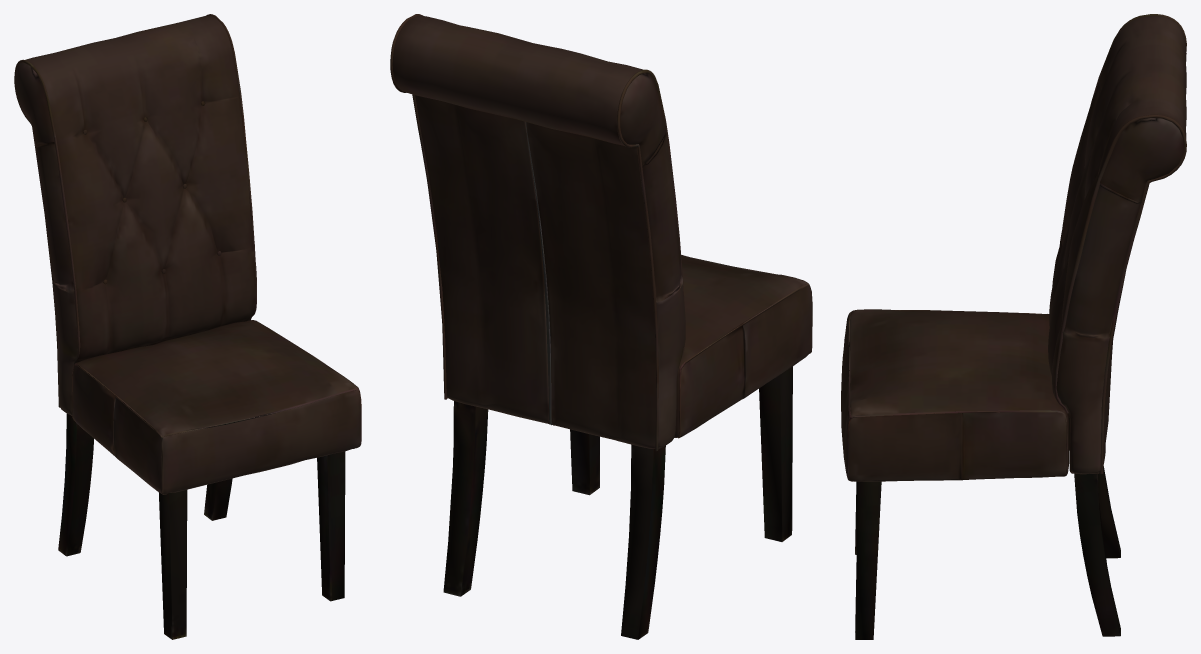
Rendered from dining_chair_02.glb.
3 renders of one model, left to right at view 1: azimuth 30°, elevation 25°; view 2: azimuth 150°, elevation 25°; view 3: azimuth 270°, elevation 25°, orthographic. The views are drawn at different scales.
Visible parts, largest first — view 1: dining_chair_02; view 2: dining_chair_02; view 3: dining_chair_02.
Boxes of the visible parts, bbox=[...] form: dining_chair_02: bbox=[14, 14, 361, 639]; dining_chair_02: bbox=[390, 14, 812, 639]; dining_chair_02: bbox=[841, 14, 1186, 639].
Bounding box in the file's own units: 0.4336 × 0.973 × 0.5764.
1 material, 1 textured.
